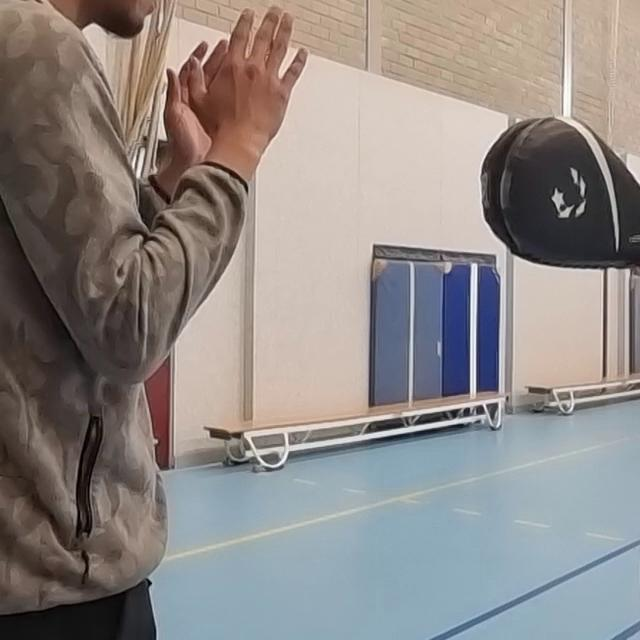paddle: (468, 119, 640, 273)
